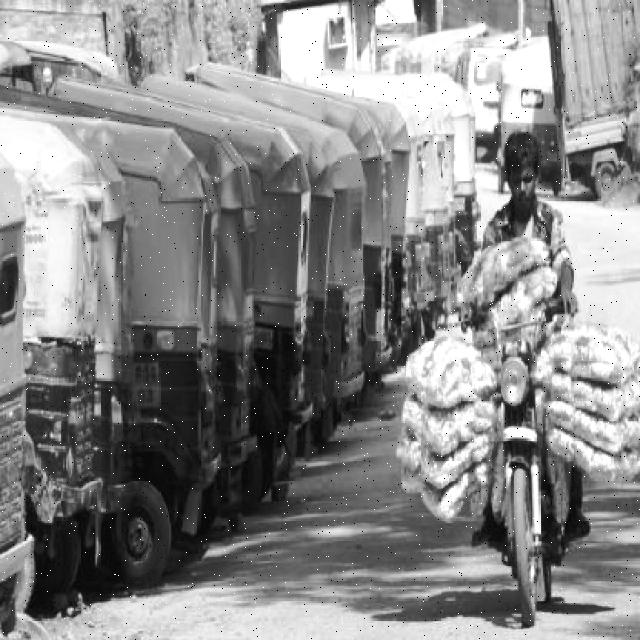Auto-Rickshaw: (6, 95, 106, 596), (126, 117, 201, 568), (312, 115, 372, 441), (215, 126, 254, 524), (496, 46, 566, 196), (442, 68, 479, 274), (417, 91, 449, 321)
